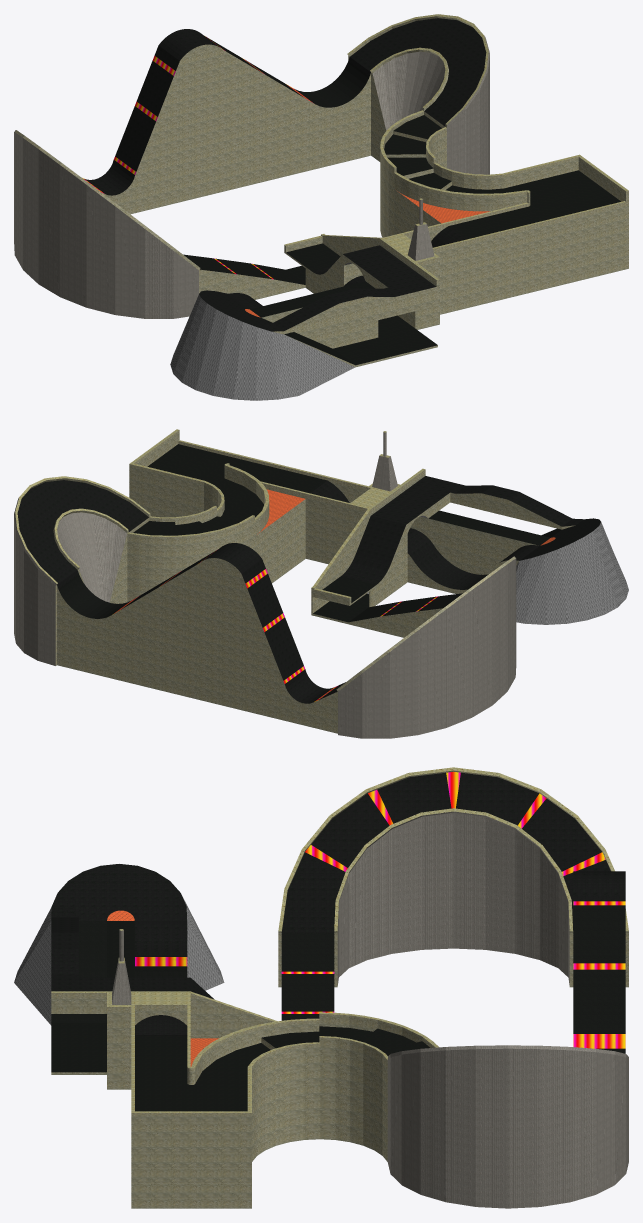
3 views of the same model, one above another, from view 1: azimuth 30°, elevation 25°; view 2: azimuth 150°, elevation 25°; view 3: azimuth 270°, elevation 25° (orthographic). The views are drawn at different scales.
Visible parts, largest first — view 1: Crazy_Road_Main-mur2, Crazy_Road_Main-paroi1, Crazy_Road_Main-route_collante, Crazy_Road_Main-route1, Crazy_Road_Main-mur1, Crazy_Road_Main-mur_dessus, Crazy_Road_Main-offroad, Crazy_Road_Main-boost; view 2: Crazy_Road_Main-mur2, Crazy_Road_Main-paroi1, Crazy_Road_Main-route_collante, Crazy_Road_Main-route1, Crazy_Road_Main-mur1, Crazy_Road_Main-mur_dessus, Crazy_Road_Main-offroad, Crazy_Road_Main-boost; view 3: Crazy_Road_Main-paroi1, Crazy_Road_Main-mur2, Crazy_Road_Main-route_collante, Crazy_Road_Main-route1, Crazy_Road_Main-mur_dessus, Crazy_Road_Main-mur1, Crazy_Road_Main-boost.
Part boxes in pixels (x1,y1,x2,y2): Crazy_Road_Main-mur2: (14,16,628,367); Crazy_Road_Main-paroi1: (14,36,489,318); Crazy_Road_Main-route_collante: (85,18,486,331); Crazy_Road_Main-route1: (183,37,620,365); Crazy_Road_Main-mur1: (170,294,354,400); Crazy_Road_Main-mur_dessus: (284,14,628,279); Crazy_Road_Main-offroad: (245,191,489,317); Crazy_Road_Main-boost: (82,36,312,279); Crazy_Road_Main-mur2: (22,430,575,733); Crazy_Road_Main-paroi1: (14,432,516,738); Crazy_Road_Main-route_collante: (17,476,600,703); Crazy_Road_Main-route1: (58,444,561,622); Crazy_Road_Main-mur1: (516,522,628,624); Crazy_Road_Main-mur_dessus: (15,429,424,597); Crazy_Road_Main-offroad: (257,489,555,545); Crazy_Road_Main-boost: (112,550,437,701); Crazy_Road_Main-paroi1: (112,811,628,1208); Crazy_Road_Main-mur2: (51,770,628,1208); Crazy_Road_Main-route_collante: (51,772,625,1035); Crazy_Road_Main-route1: (51,905,625,1111); Crazy_Road_Main-mur_dessus: (51,767,628,1112); Crazy_Road_Main-mur1: (14,896,224,1025); Crazy_Road_Main-boost: (135,771,625,1048).
Size of the model in its own units: 62057 by 19590 by 58790.
11 materials, 11 textured.
